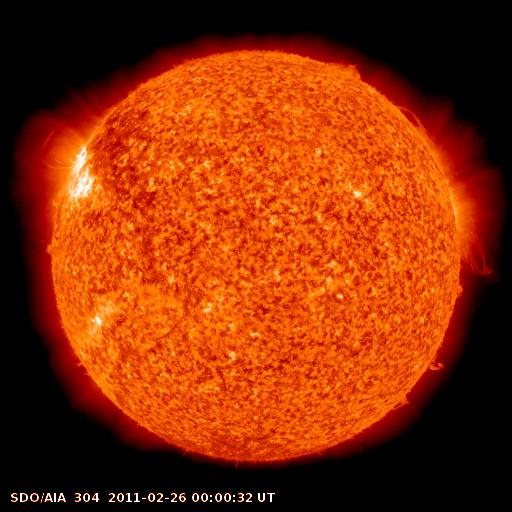prominence: (450, 228, 512, 308), (377, 90, 441, 148), (323, 42, 367, 87), (424, 335, 452, 384), (382, 384, 420, 420)
